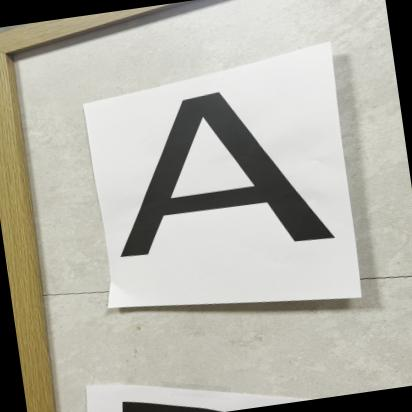seat: (82, 73, 335, 279)
